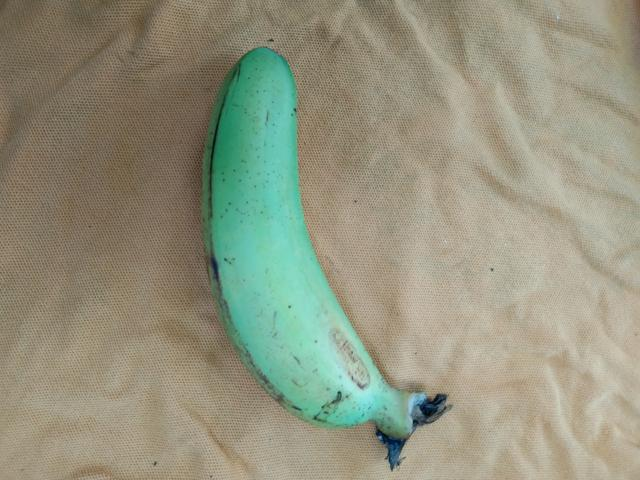ripe: (195, 32, 406, 441)
